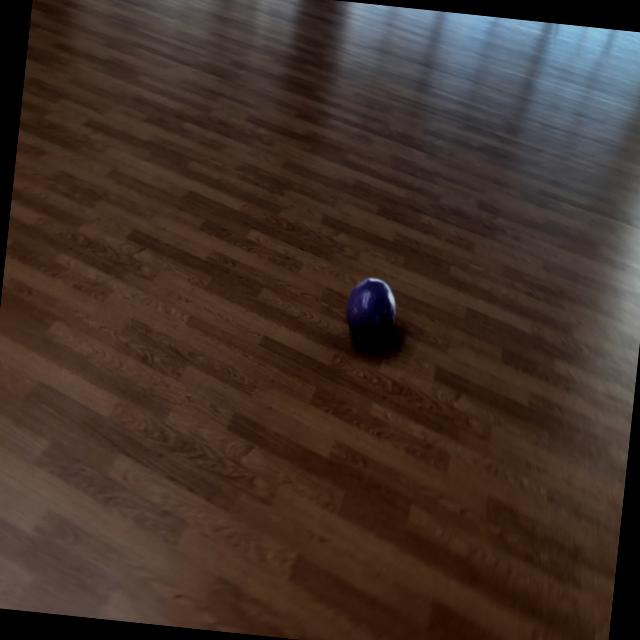purple_ball: (341, 276, 399, 348)
